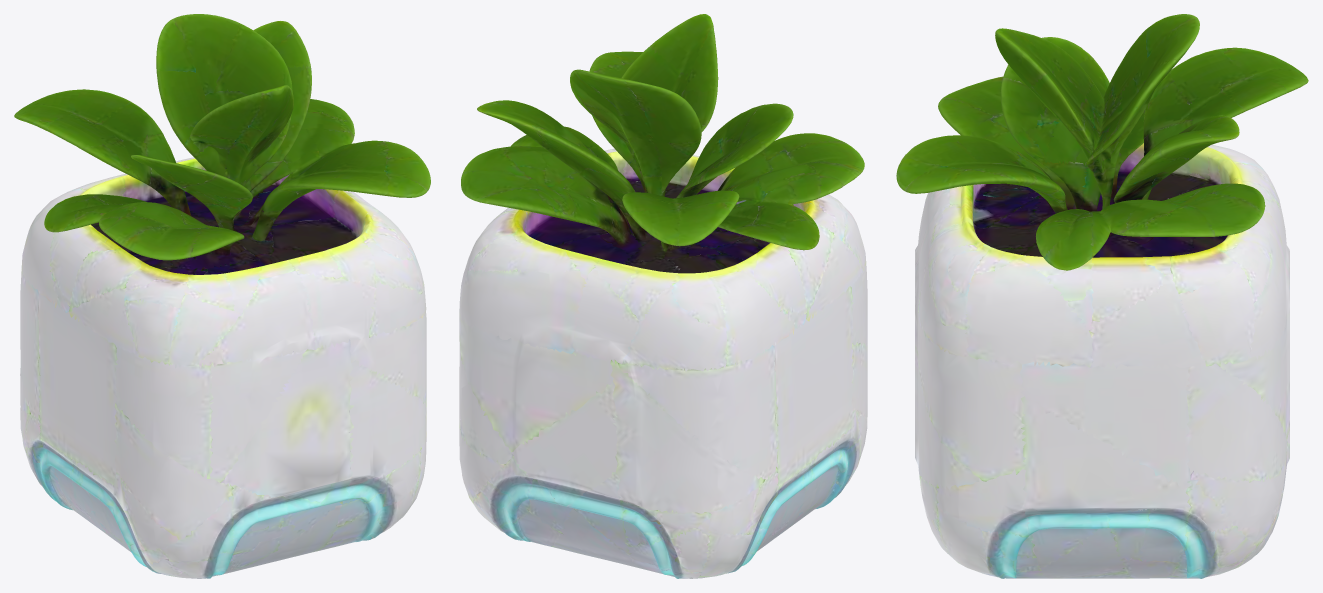
File: plant.glb
3 renders of one model, left to right at view 1: azimuth 30°, elevation 25°; view 2: azimuth 150°, elevation 25°; view 3: azimuth 270°, elevation 25°, orthographic. The views are drawn at different scales.
Bounding box in the file's own units: 1.36 × 1.9 × 1.38.
1 material, 1 textured.
